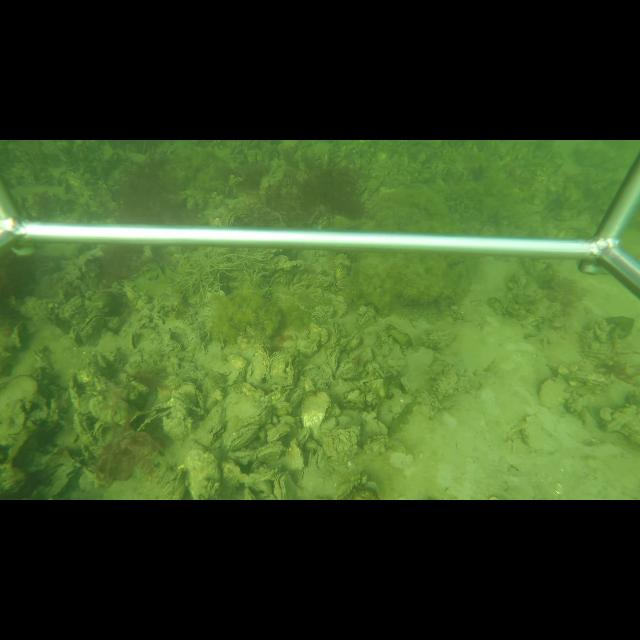Oyster-Closed: (227, 382, 272, 432), (183, 449, 220, 500), (521, 415, 564, 454), (86, 395, 141, 424), (191, 401, 225, 447), (299, 391, 332, 435), (41, 465, 79, 499), (537, 378, 573, 408), (266, 348, 291, 385), (272, 470, 302, 500), (248, 342, 269, 383), (217, 355, 246, 383), (225, 427, 260, 450), (288, 349, 302, 383), (297, 429, 310, 447), (195, 389, 204, 411), (245, 362, 253, 380)
Oyster-Open: (131, 403, 176, 430), (77, 312, 105, 345), (270, 384, 296, 392)
